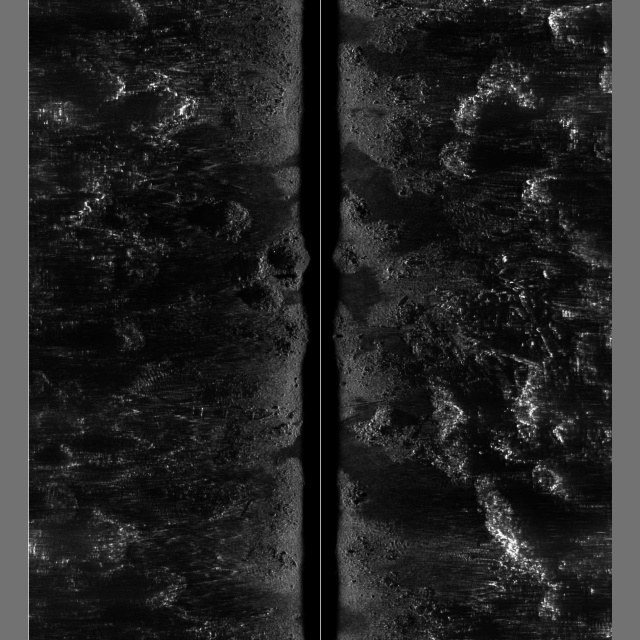Shipwreck: (173, 182, 556, 519)
